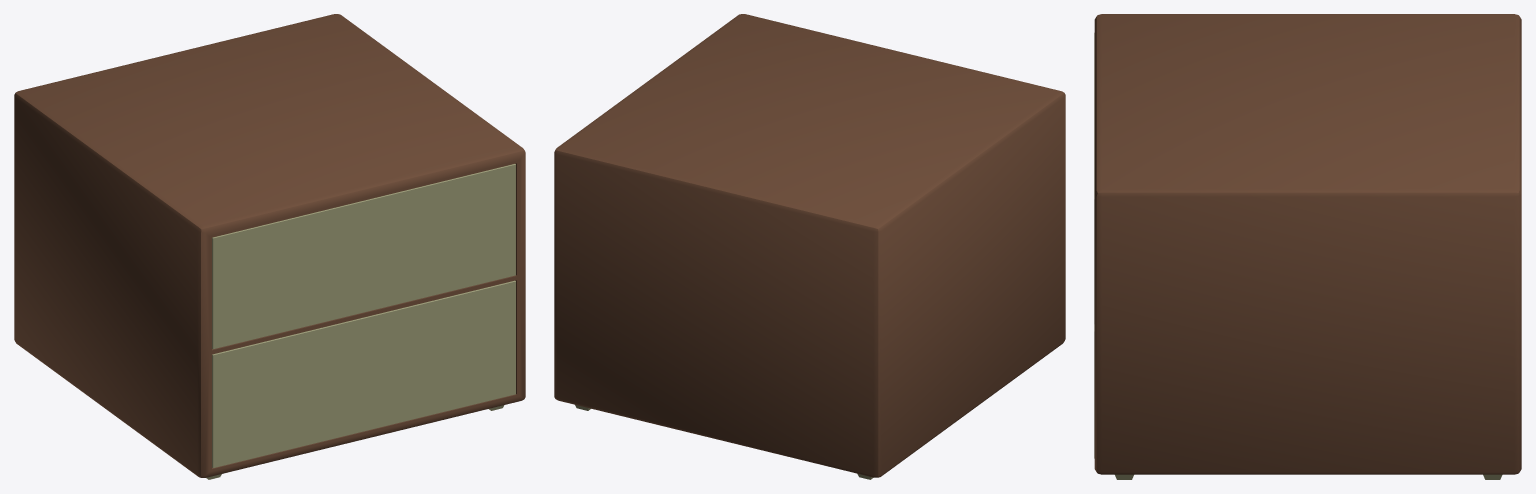
The model's file is Mesitadenoche_02.fbx.
3 renders of one model, left to right at view 1: azimuth 30°, elevation 25°; view 2: azimuth 150°, elevation 25°; view 3: azimuth 270°, elevation 25°, orthographic. The views are drawn at different scales.
Visible parts, largest first — view 1: Mesita de noche2; view 2: Mesita de noche2; view 3: Mesita de noche2.
Part boxes in pixels (x1,y1,x2,y2): Mesita de noche2: (14, 14, 525, 479); Mesita de noche2: (554, 14, 1065, 479); Mesita de noche2: (1094, 14, 1521, 479).
Bounding box in the file's own units: 70.73 × 54.18 × 70.79.
